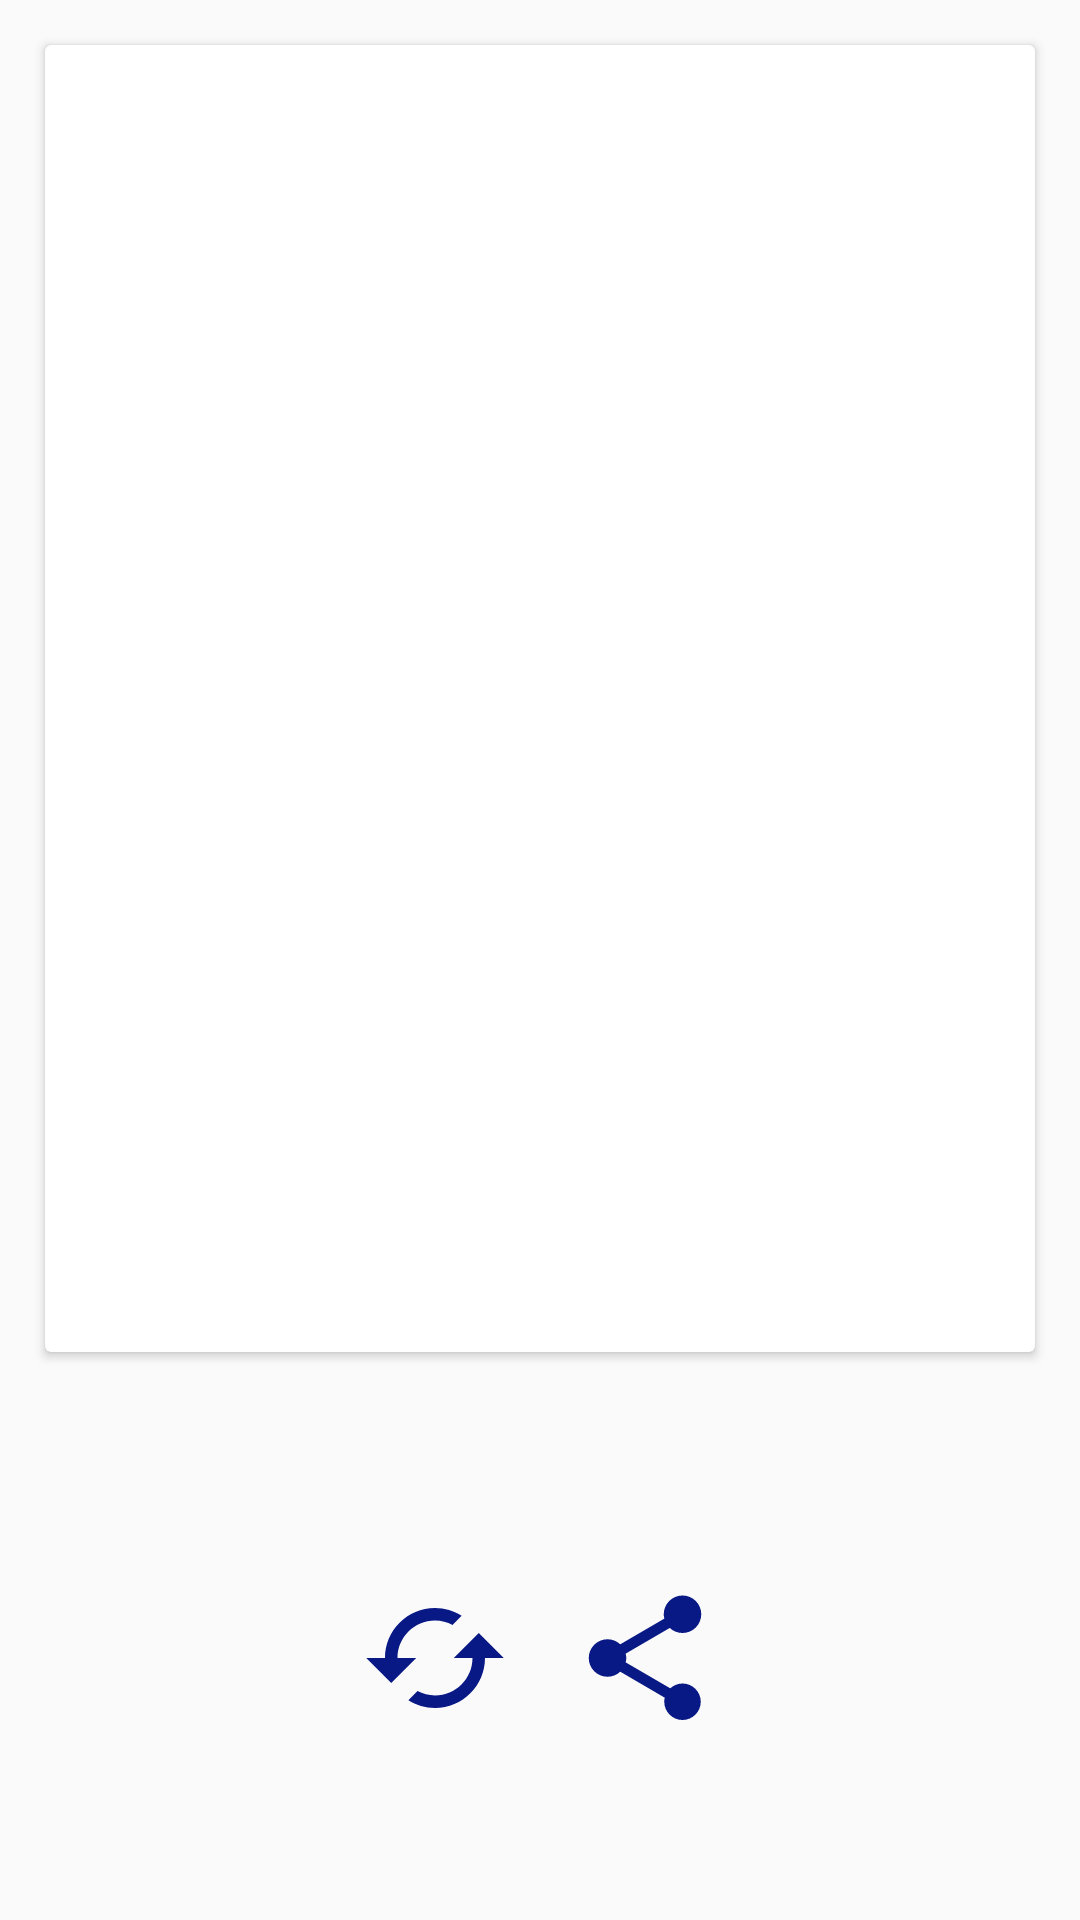

Point at icon controls on the screen. Image size 1080x1920, points as (x,y).
cached: (435,1658)
share: (645,1657)
